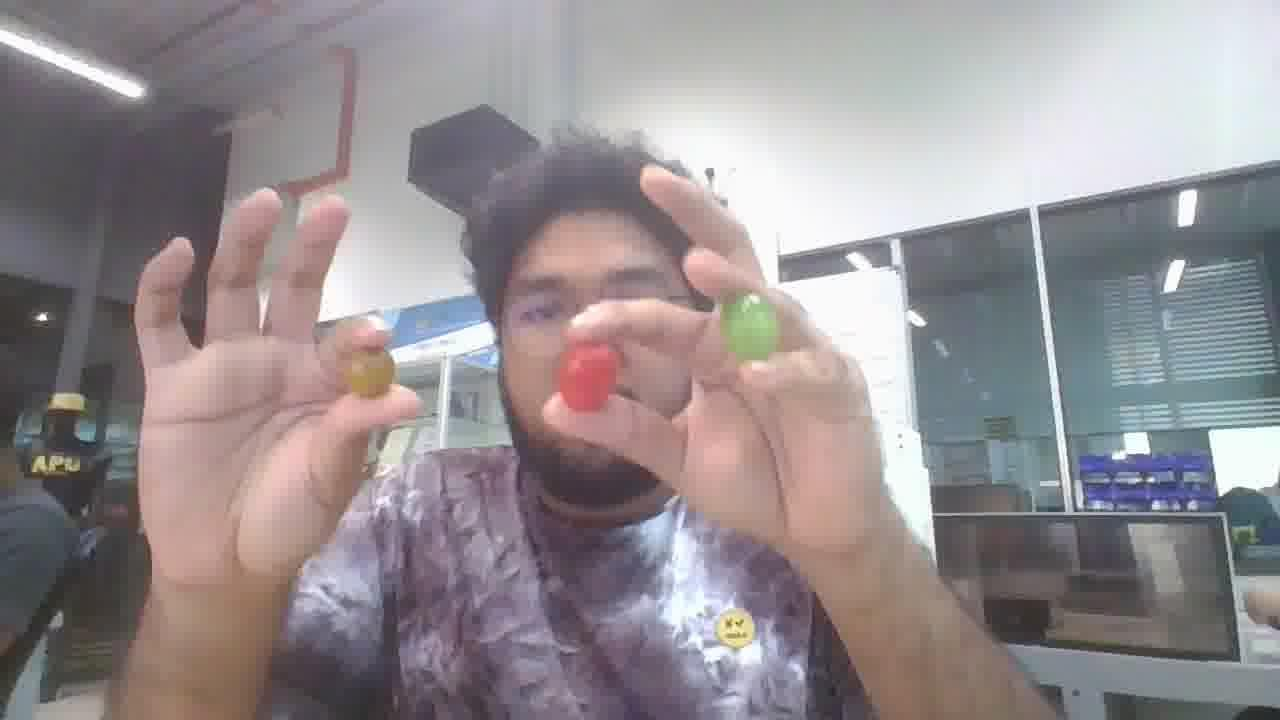green_cherry_tomato: (720, 293, 778, 361)
red_cherry_tomato: (558, 344, 619, 411)
yellow_cherry_tomato: (343, 349, 395, 397)
